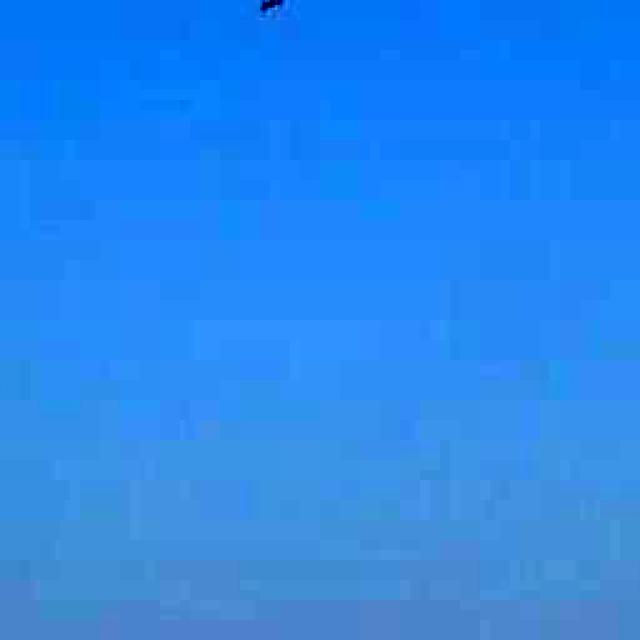bird: (236, 0, 301, 25)
